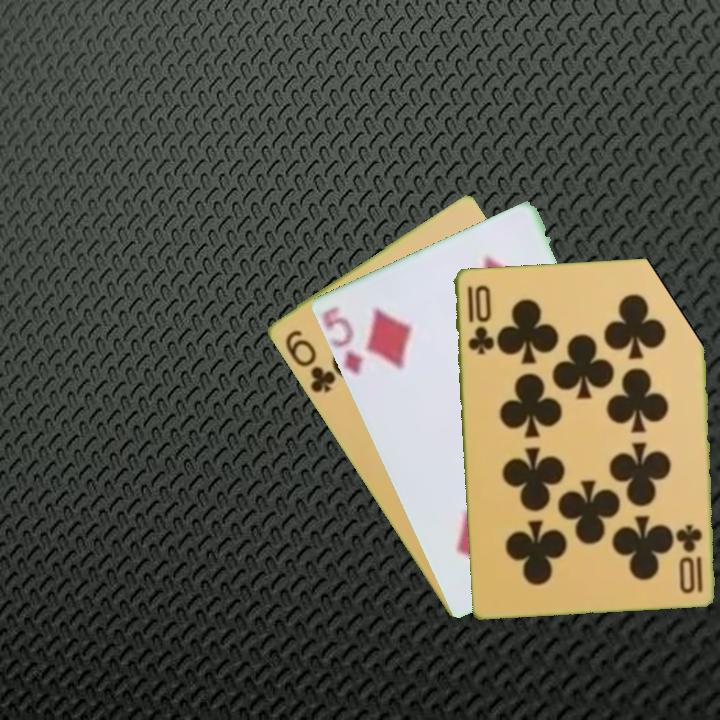10c: (463, 281, 495, 357), (676, 521, 705, 596)
5d: (323, 305, 366, 379)
6c: (281, 326, 338, 396)
